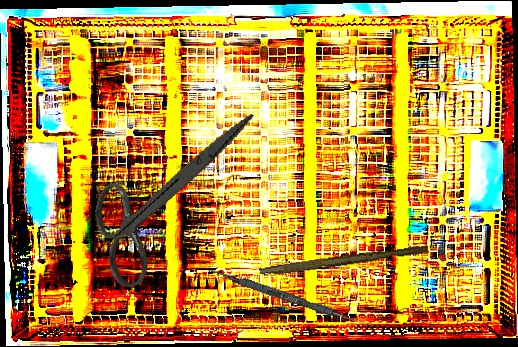Iris Scissors: (80, 85, 254, 306)
Scalpel Handle: (259, 241, 429, 281)
Spatula Surgical: (202, 265, 377, 331)
